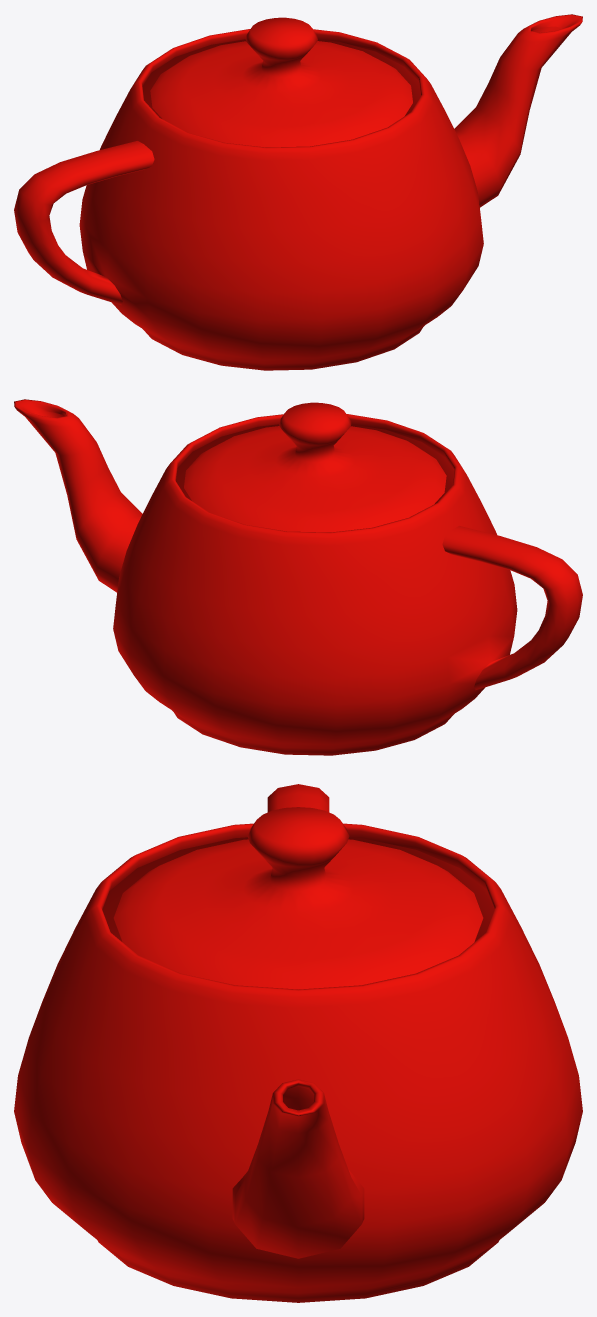
Rendered from teapot.glb.
3 views of the same model, one above another, from view 1: azimuth 30°, elevation 25°; view 2: azimuth 150°, elevation 25°; view 3: azimuth 270°, elevation 25° (orthographic). The views are drawn at different scales.
Parts seen in each view (by area): view 1: Teapot; view 2: Teapot; view 3: Teapot.
Boxes of the visible parts, <box> form: Teapot: <box>14,14,582,370</box>; Teapot: <box>14,399,582,755</box>; Teapot: <box>14,784,582,1302</box>.
Size of the model in its own units: 6.43 by 3.15 by 4.
